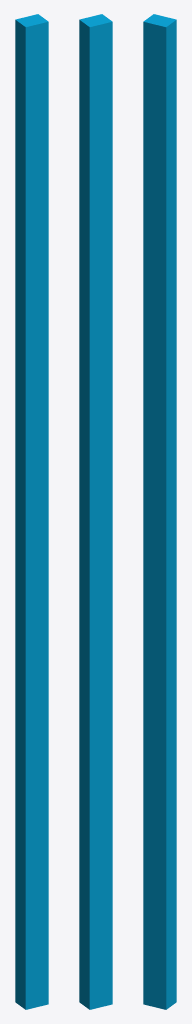
Rendered from Metal_Pillar.fbx.
3 renders of one model, left to right at view 1: azimuth 30°, elevation 25°; view 2: azimuth 210°, elevation 25°; view 3: azimuth 330°, elevation 25°, orthographic.
Parts seen in each view (by area): view 1: Metal_Pillar; view 2: Metal_Pillar; view 3: Metal_Pillar.
Boxes of the visible parts, x1,y1,x2,y2 form: Metal_Pillar: [15, 14, 48, 1009]; Metal_Pillar: [79, 14, 112, 1009]; Metal_Pillar: [143, 14, 176, 1009].
Size of the model in its own units: 14.59 by 598 by 11.6.
